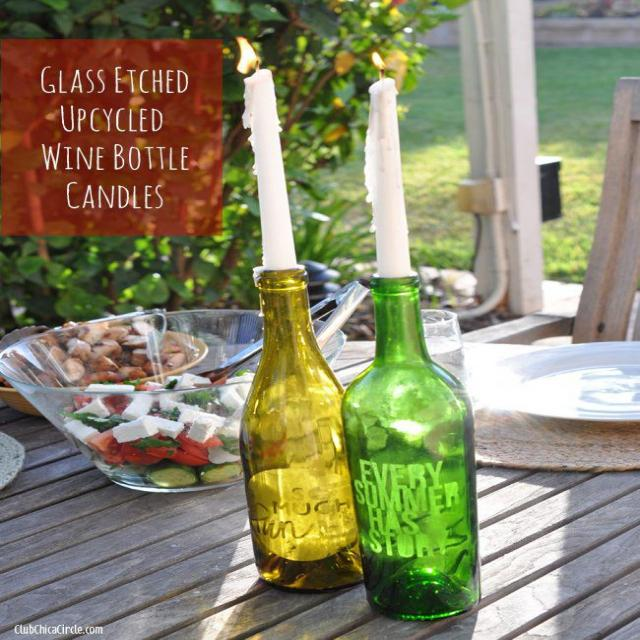non-organic waste: (339, 276, 489, 620), (238, 262, 354, 592)
